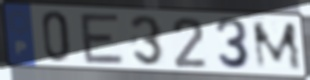0: (40, 10, 75, 65)
2: (170, 15, 210, 70)
3: (214, 17, 253, 72), (127, 14, 166, 68)
E: (78, 12, 127, 67)
M: (250, 21, 305, 71)
